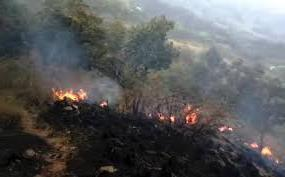fire: (51, 84, 90, 103), (178, 102, 202, 125), (260, 145, 278, 158)
